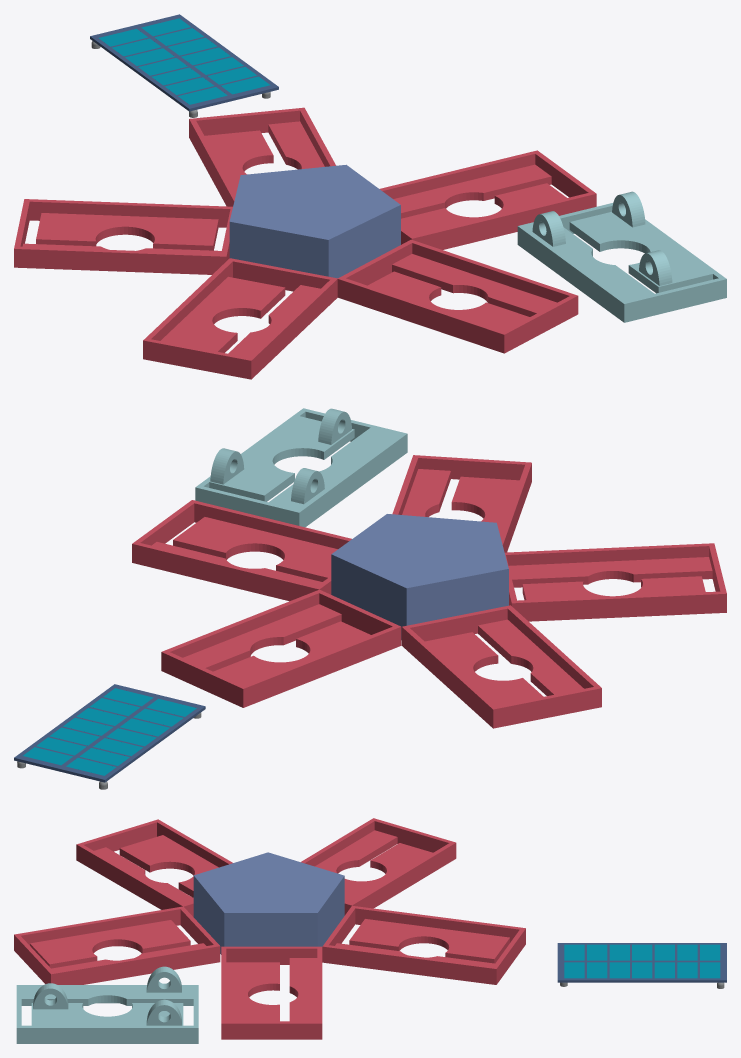
The model's file is PAINEL SOLAR.glb.
3 renders of one model, top to bottom at view 1: azimuth 30°, elevation 25°; view 2: azimuth 150°, elevation 25°; view 3: azimuth 270°, elevation 25°, orthographic. The views are drawn at different scales.
Visible parts, largest first — view 1: Mesh_Mesh_head_geo.001_lambert2SG.001; view 2: Mesh_Mesh_head_geo.001_lambert2SG.001; view 3: Mesh_Mesh_head_geo.001_lambert2SG.001.
Boxes of the visible parts, bbox=[...] form: Mesh_Mesh_head_geo.001_lambert2SG.001: bbox=[14, 14, 726, 379]; Mesh_Mesh_head_geo.001_lambert2SG.001: bbox=[14, 408, 726, 789]; Mesh_Mesh_head_geo.001_lambert2SG.001: bbox=[14, 818, 726, 1043].
Size of the model in its own units: 0.1963 by 0.02 by 0.282.
